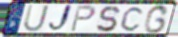C: (119, 6, 146, 33)
G: (143, 4, 170, 35)
J: (47, 4, 74, 34)
P: (69, 5, 97, 33)
S: (95, 5, 121, 33)
U: (22, 4, 50, 33)
